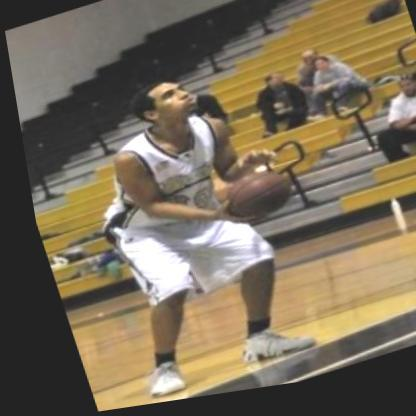basketball: (204, 166, 293, 238)
